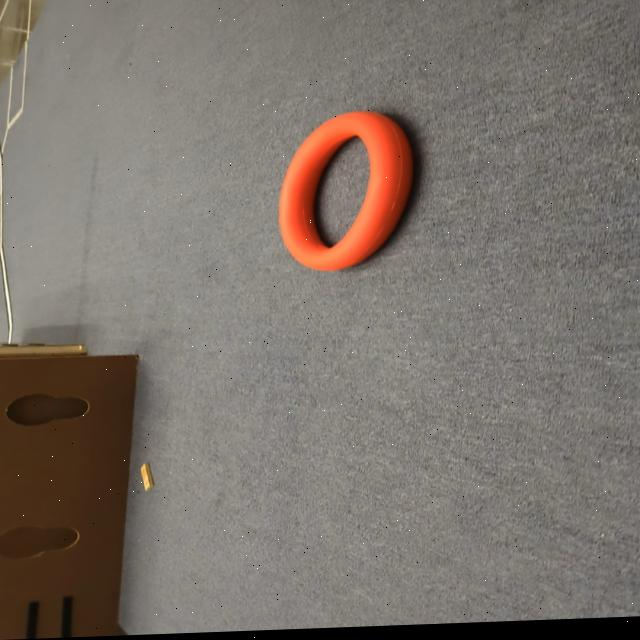note: (281, 114, 407, 272)
